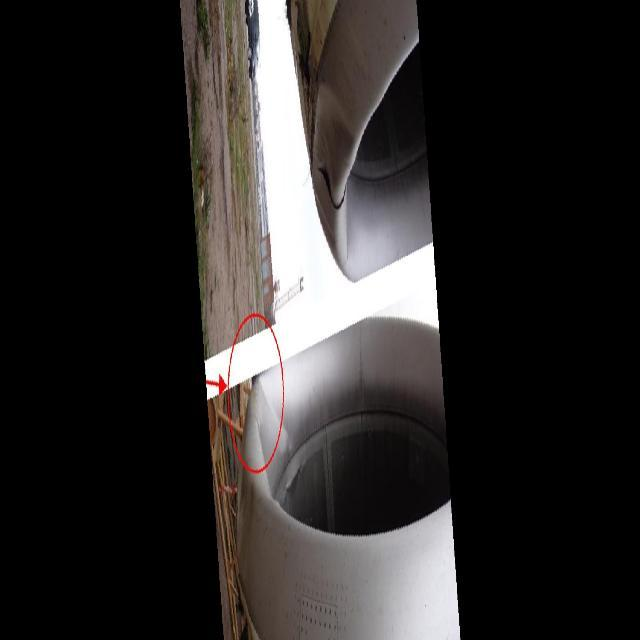dent: (321, 81, 354, 165)
